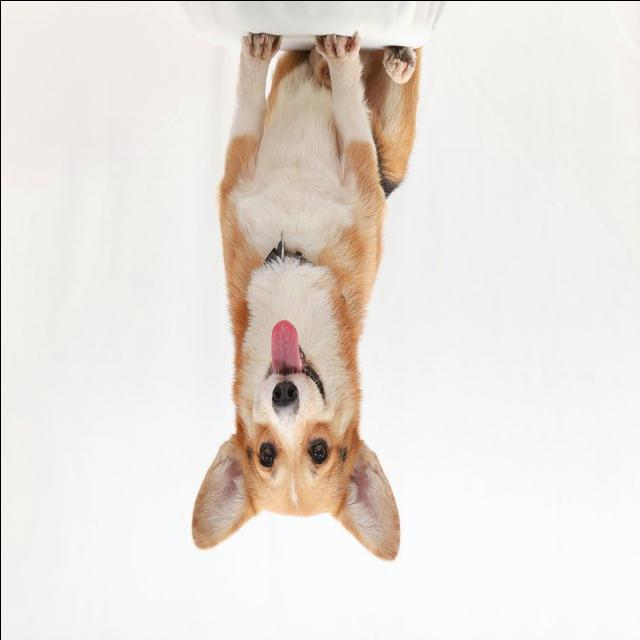corgi: (188, 31, 421, 562)
